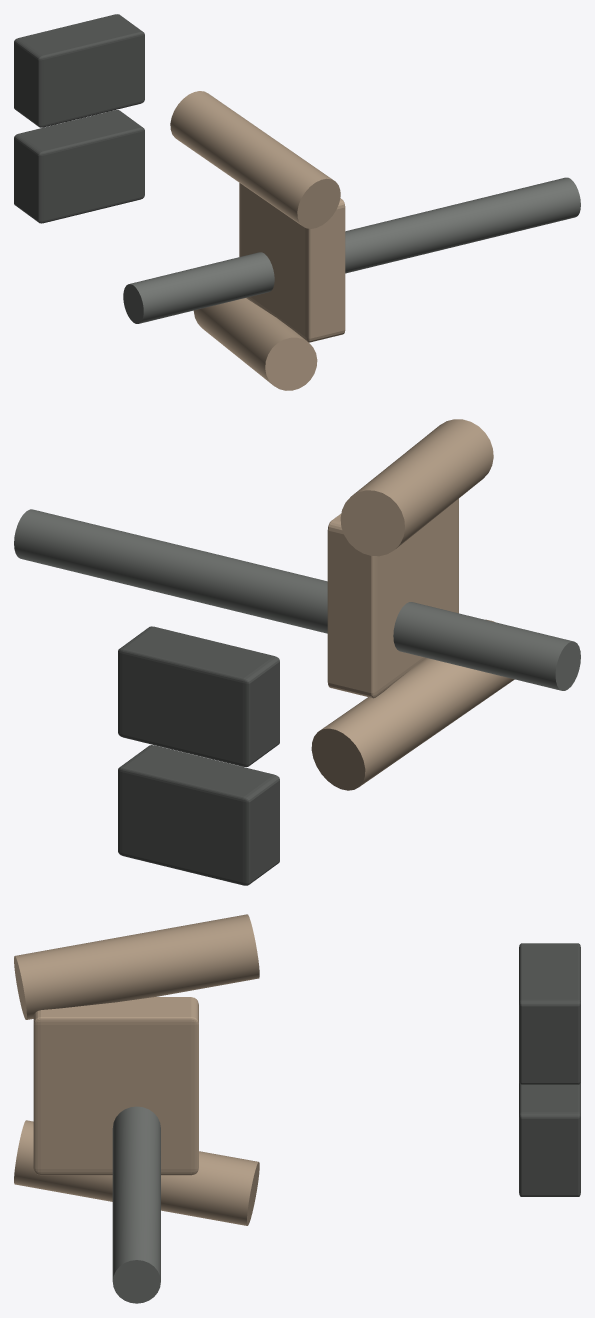
The model's file is d-u03-dominion-sniper-lod2.glb.
3 views of the same model, one above another, from view 1: azimuth 30°, elevation 25°; view 2: azimuth 150°, elevation 25°; view 3: azimuth 270°, elevation 25° (orthographic). The views are drawn at different scales.
Visible parts, largest first — view 1: soldier_0_sniper, soldier_0_boot_1, soldier_0_boot_-1, soldier_0_chest, soldier_0_arm_1, soldier_0_arm_-1; view 2: soldier_0_sniper, soldier_0_boot_1, soldier_0_boot_-1, soldier_0_chest, soldier_0_arm_-1, soldier_0_arm_1; view 3: soldier_0_chest, soldier_0_arm_1, soldier_0_sniper, soldier_0_boot_1, soldier_0_arm_-1, soldier_0_boot_-1.
Part boxes in pixels (bbox=[...]): soldier_0_sniper: bbox=[123, 177, 580, 323]; soldier_0_boot_1: bbox=[14, 14, 144, 127]; soldier_0_boot_-1: bbox=[14, 110, 144, 223]; soldier_0_chest: bbox=[239, 183, 345, 342]; soldier_0_arm_1: bbox=[170, 91, 340, 228]; soldier_0_arm_-1: bbox=[193, 298, 317, 390]; soldier_0_sniper: bbox=[14, 509, 580, 690]; soldier_0_boot_1: bbox=[118, 626, 279, 766]; soldier_0_boot_-1: bbox=[118, 745, 279, 885]; soldier_0_chest: bbox=[327, 498, 458, 698]; soldier_0_arm_-1: bbox=[311, 619, 514, 790]; soldier_0_arm_1: bbox=[340, 419, 493, 556]; soldier_0_chest: bbox=[33, 997, 198, 1175]; soldier_0_arm_1: bbox=[14, 914, 259, 1019]; soldier_0_sniper: bbox=[112, 1106, 160, 1303]; soldier_0_boot_1: bbox=[519, 943, 580, 1084]; soldier_0_arm_-1: bbox=[14, 1120, 259, 1225]; soldier_0_boot_-1: bbox=[519, 1081, 580, 1196].
Size of what is drawn, in the model's own units: 1.65 by 0.894 by 1.58.
